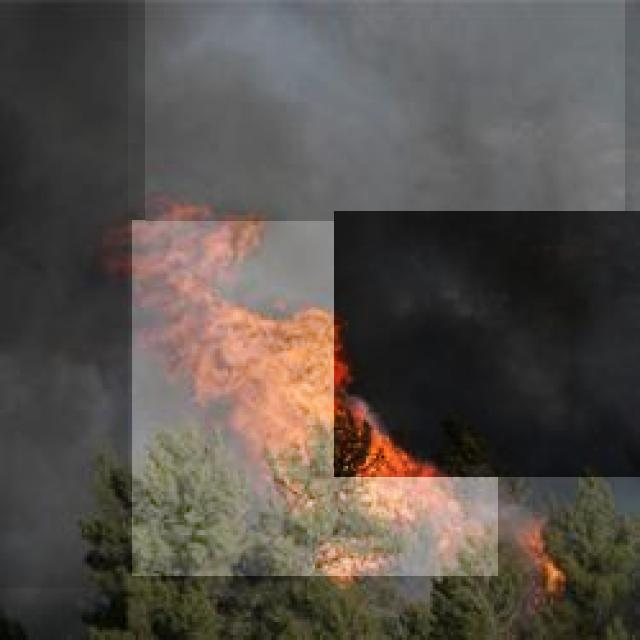Fire: (132, 220, 498, 576)
Smoke: (145, 0, 625, 221), (334, 211, 640, 477), (0, 0, 128, 588)
